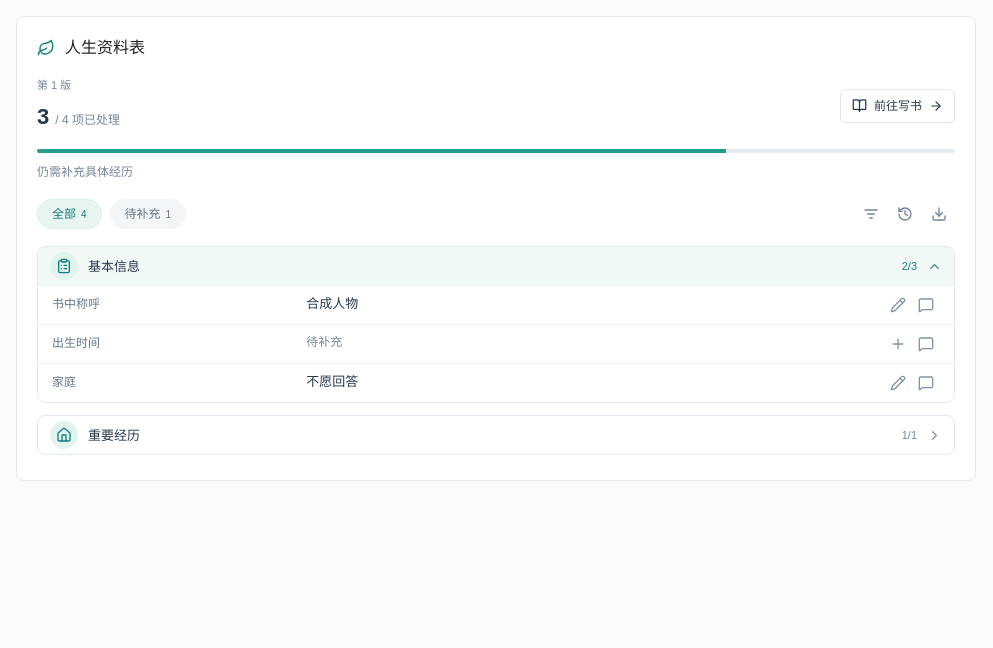
failed saves retain the inline draft for retry and cancel leaves original content intact
The width and height of the screenshot is (993, 648).
Click the button named "编辑资料" in the row of "合成人物".
click(898, 305)  # box [884,291,912,319]
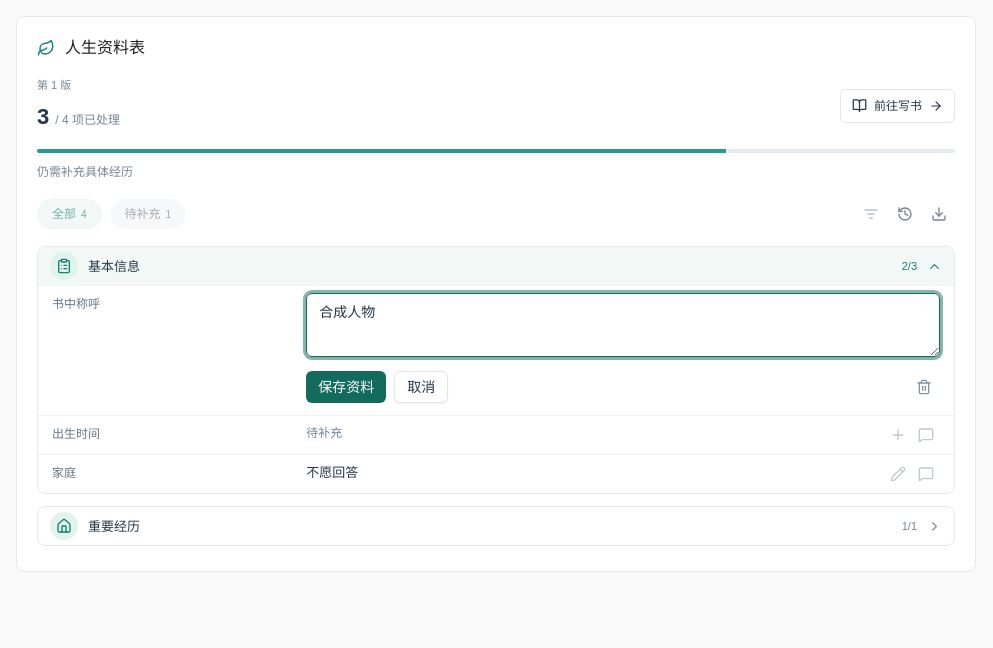
Replace the text in the text box with "保留草稿" at coordinates (623, 325), box [306,293,940,357]
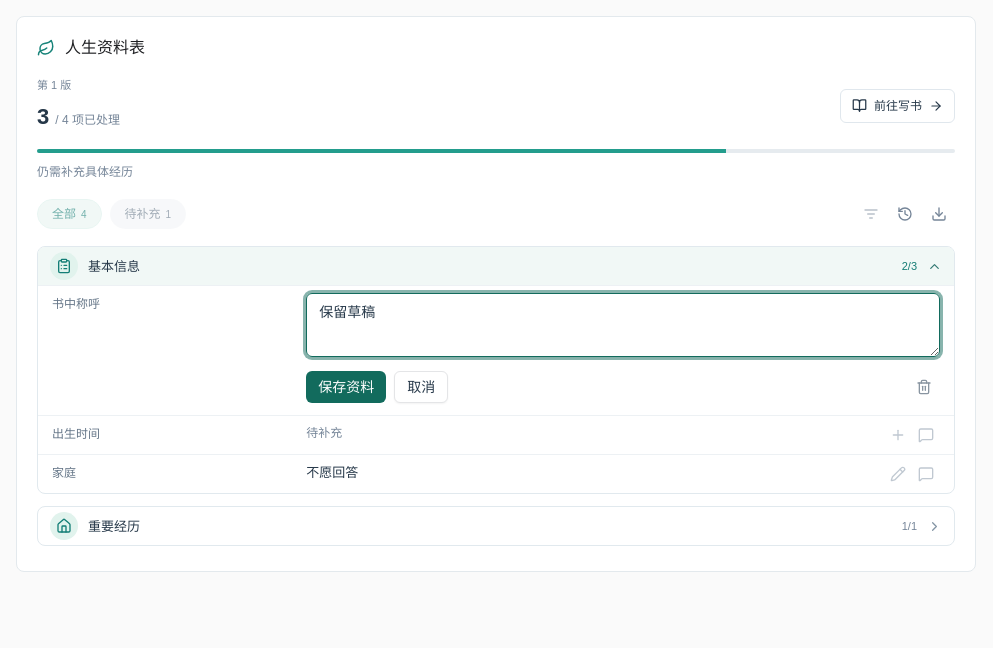
Click the button "保存资料".
click(346, 387)  # box [306,371,386,403]
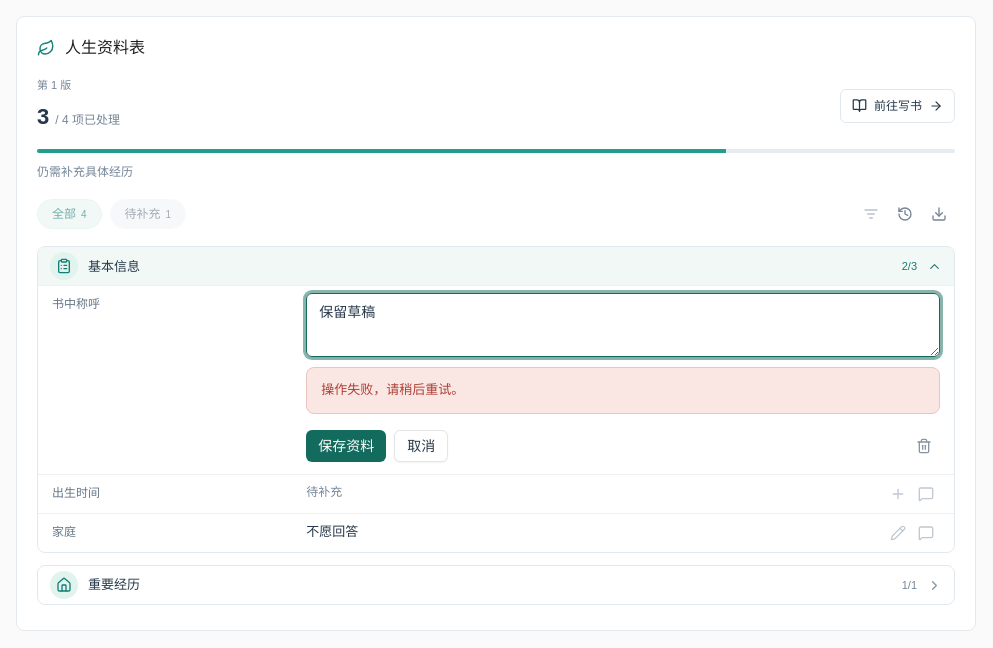
Now the message "操作失败，请稍后重试。" is shown, box [306,367,940,414]
Click the button "取消".
click(421, 446)  # box [394,430,448,462]
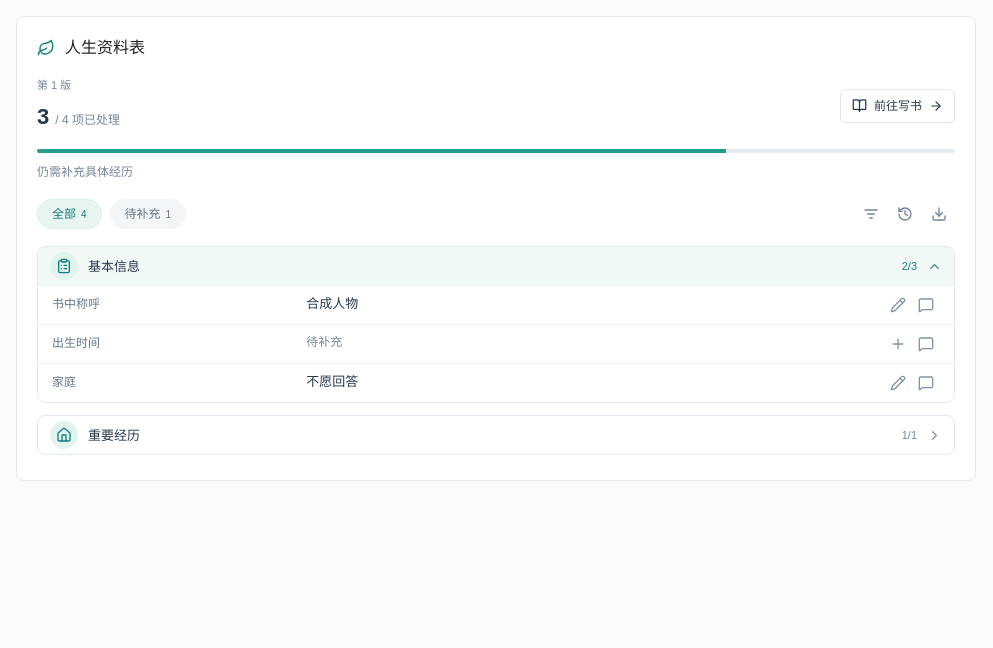
Now the text "合成人物" is shown, box [306,296,358,311]
